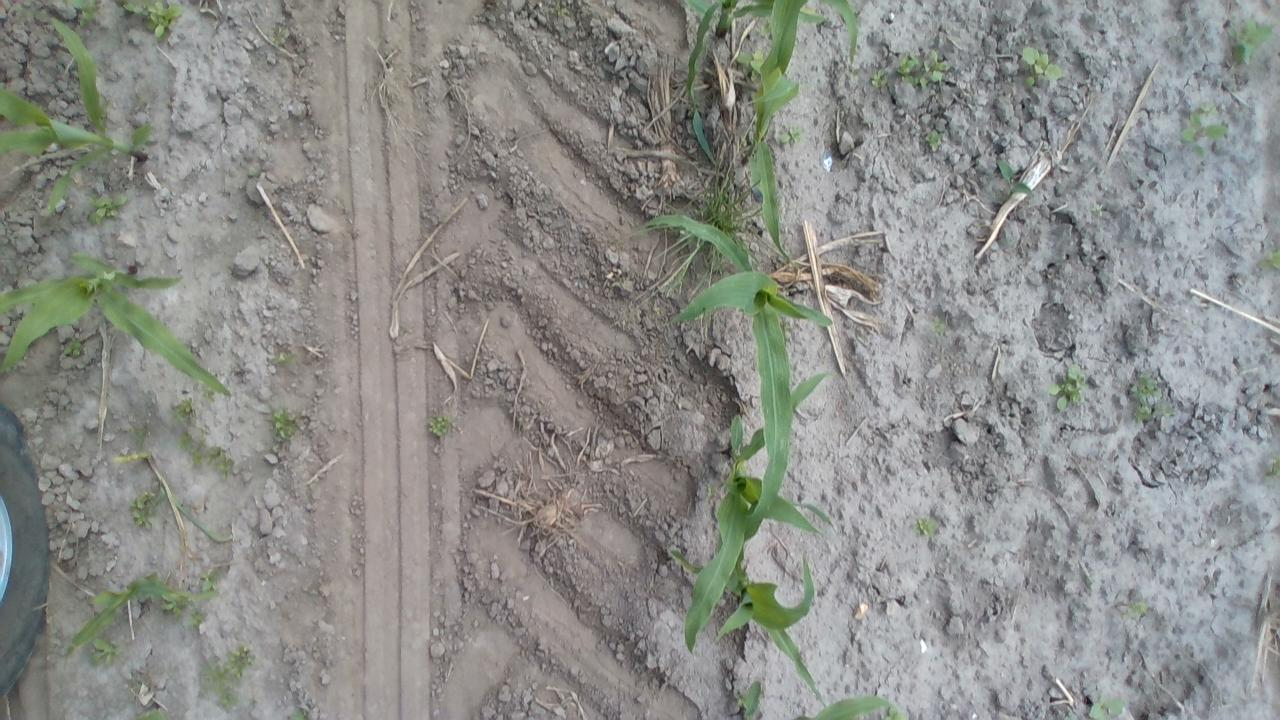Maize: (632, 214, 834, 524), (684, 370, 832, 656), (0, 252, 233, 398), (2, 9, 154, 219), (687, 0, 858, 169), (669, 548, 828, 708), (740, 0, 810, 263), (66, 576, 216, 659), (114, 447, 232, 545), (793, 696, 888, 720), (745, 678, 761, 718), (135, 705, 167, 720), (290, 710, 306, 720)
Weeds: (699, 146, 761, 227), (1226, 16, 1277, 70), (1134, 368, 1179, 424), (1184, 100, 1226, 158), (122, 1, 184, 38), (1048, 362, 1088, 410), (896, 52, 946, 89), (1022, 46, 1060, 89), (212, 648, 256, 681), (996, 160, 1034, 198), (88, 194, 126, 226), (208, 446, 238, 482), (72, 0, 104, 26), (91, 638, 122, 664), (274, 406, 298, 438), (134, 495, 155, 531), (737, 51, 761, 80), (1090, 698, 1123, 719), (216, 679, 236, 710), (1259, 249, 1280, 274), (132, 423, 153, 445), (194, 436, 206, 472), (172, 398, 194, 417), (1125, 600, 1149, 616), (428, 417, 447, 437), (266, 353, 292, 367), (271, 26, 290, 45), (62, 340, 84, 356), (192, 610, 212, 627), (869, 68, 887, 86), (928, 130, 944, 150), (782, 131, 802, 146), (756, 22, 772, 40), (1268, 453, 1280, 476), (917, 519, 935, 534), (203, 576, 216, 594), (554, 2, 567, 20), (884, 706, 900, 720), (182, 433, 195, 450), (202, 389, 216, 403), (932, 320, 943, 333)
